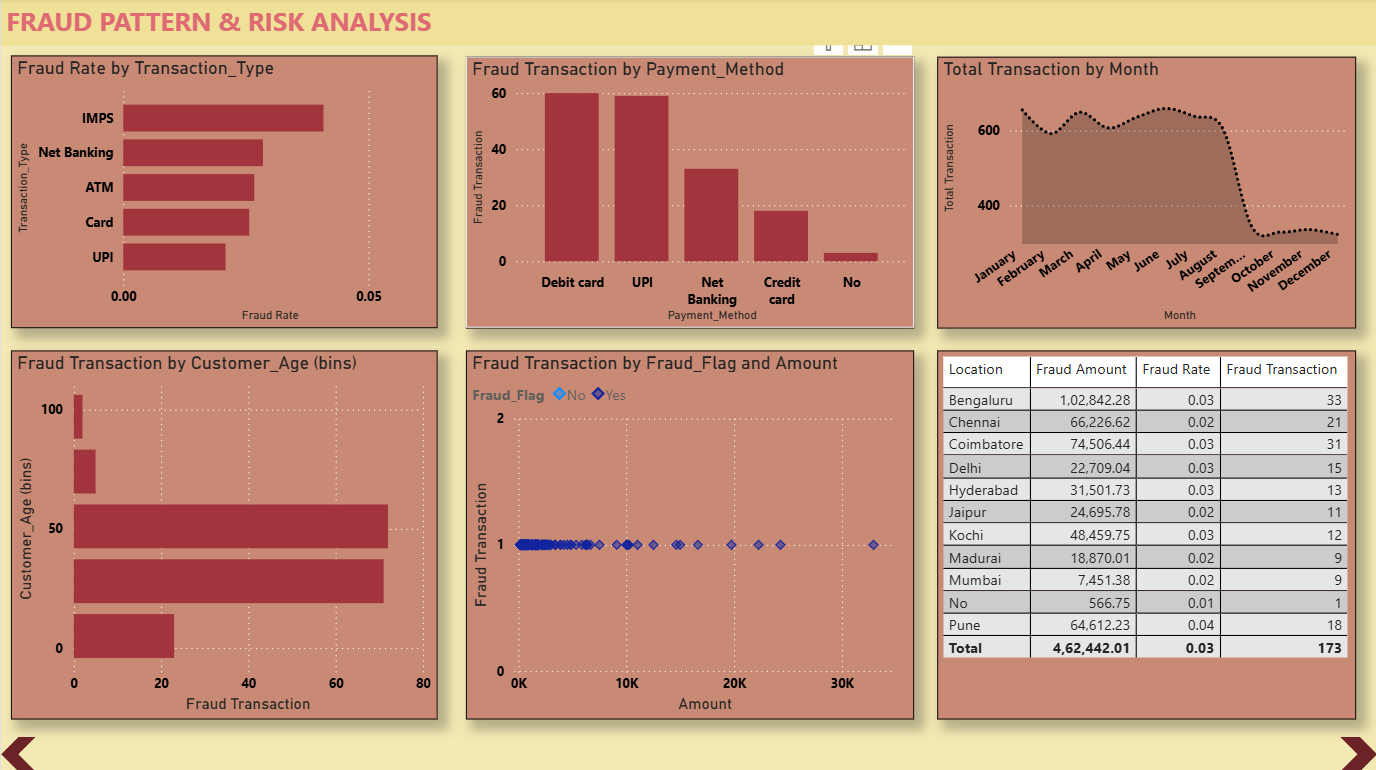

The dashboard page shown, as its layout file describes it:
{"tool":"powerbi","page":{"name":"Fraud pattern and risk analysis","canvas":[1280,720],"ordinal":1},"visuals":[{"type":"barChart","fields":{"Category":["Fraud Data.Transaction_Type"],"Y":["Fraud Data.Fraud Rate"]},"box":[9.6,53.5,396.6,253.9],"z":0},{"type":"columnChart","fields":{"Category":["Fraud Data.Payment_Method"],"Y":["Fraud Data.Fraud Transaction"]},"box":[432.2,54.9,417.2,252.5],"z":1000},{"type":"barChart","fields":{"Y":["Fraud Data.Fraud Transaction"],"Category":["Fraud Data.Customer_Age (bins)"]},"box":[9.6,328,396.6,343.1],"z":2000},{"type":"scatterChart","fields":{"X":["Fraud Data.Amount"],"Y":["Fraud Data.Fraud Transaction"],"Series":["Fraud Data.Fraud_Flag"]},"box":[432.2,328,417.2,343.1],"z":3000},{"type":"lineChart","fields":{"Category":["Fraud Data.Transaction_Date.Variation.Date Hierarchy.Month"],"Y":["Fraud Data.Total Transaction"]},"box":[871.4,54.9,389.7,252.5],"z":4000},{"type":"pivotTable","fields":{"Rows":["Fraud Data.Location"],"Values":["Fraud Data.Fraud Amount","Fraud Data.Fraud Rate","Fraud Data.Fraud Transaction"]},"box":[871.4,328,389.7,343.1],"z":5000},{"type":"textbox","box":[0,0,1280.3,43.9],"z":6000}]}

Visuals, with their boxes in screenshot pixels (x1, y1, x2, y2), scaled from the page's 1280x720 canvas onto the 1376x770 screenshot:
barChart - Fraud Data.Transaction_Type x Fraud Data.Fraud Rate: [10,57,437,329]
columnChart - Fraud Data.Payment_Method x Fraud Data.Fraud Transaction: [465,59,913,329]
barChart - Fraud Data.Fraud Transaction x Fraud Data.Customer_Age (bins): [10,351,437,718]
scatterChart - Fraud Data.Amount x Fraud Data.Fraud Transaction: [465,351,913,718]
lineChart - Fraud Data.Transaction_Date.Variation.Date Hierarchy.Month x Fraud Data.Total Transaction: [937,59,1356,329]
pivotTable - Fraud Data.Location x Fraud Data.Fraud Amount: [937,351,1356,718]
textbox: [0,0,1375,47]
